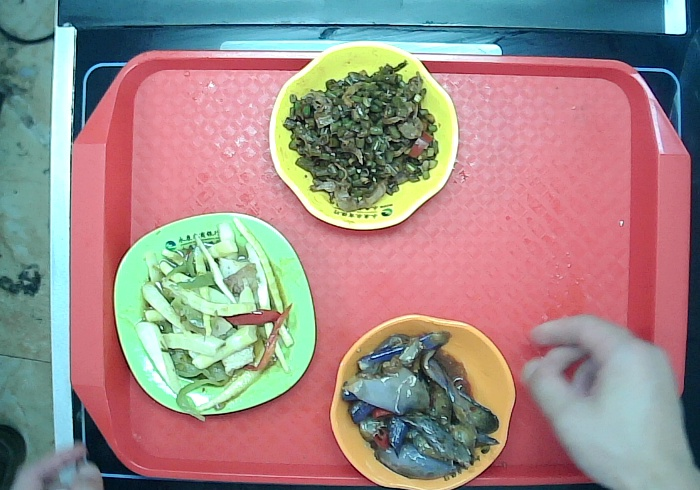YKMZ-Huang_Se_Ao_Bian_Wan: (268, 42, 459, 232)
YKMZ-Ju_Se_Ao_Bian_Wan: (329, 311, 517, 489)
YKMZ-Lv_Se_Fang_Die: (112, 212, 319, 418)
